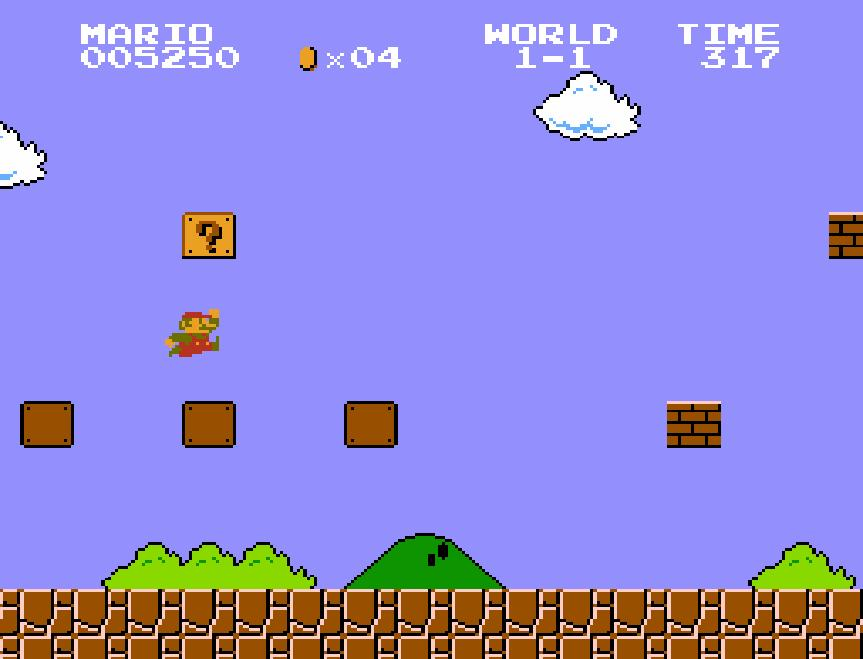little_mario: (162, 308, 220, 357)
